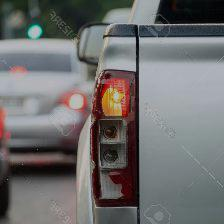tail_lamp: (86, 121, 137, 217)
